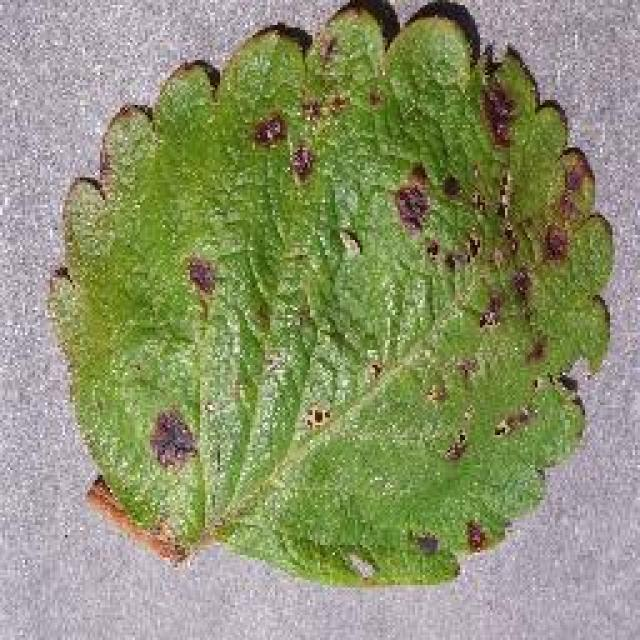Strawberry___Leaf_scorch: (32, 0, 628, 608)
